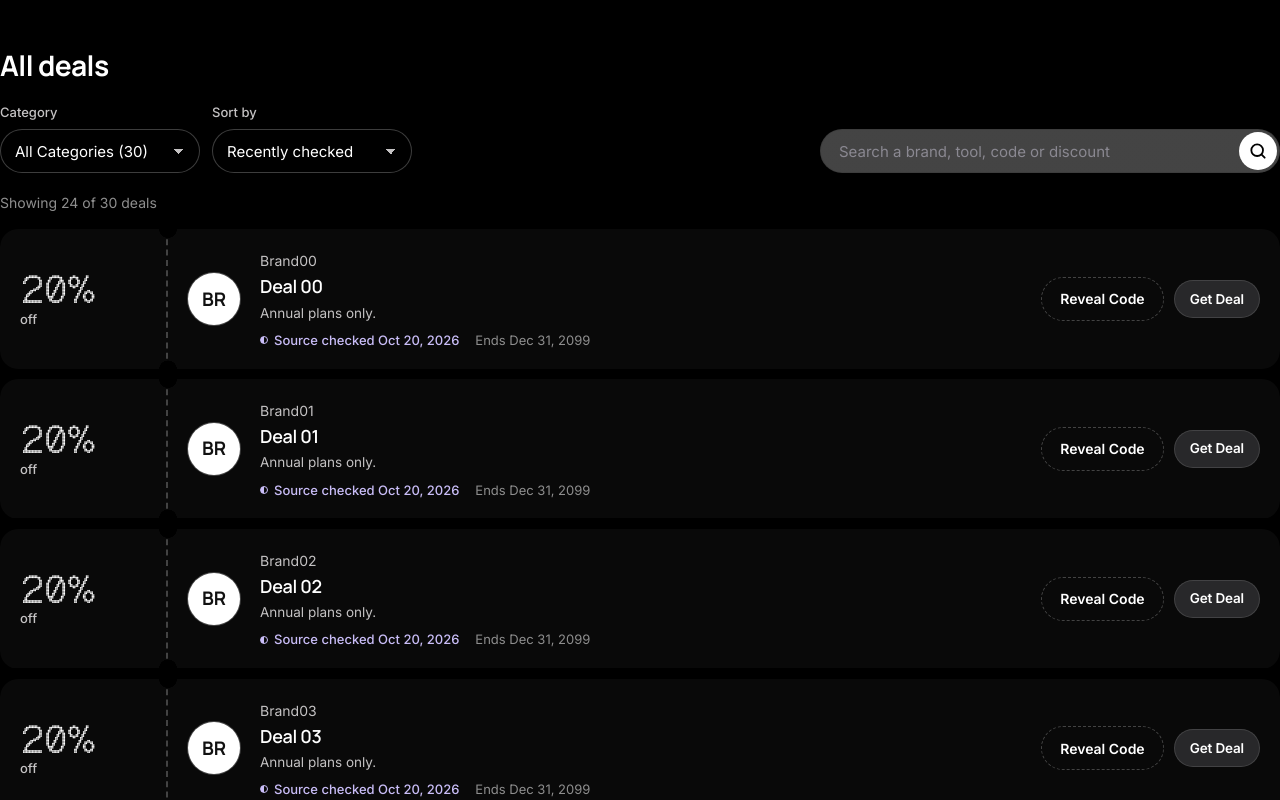
Test: Deals list › searches with the round search key
Type "code03" into the search field.
click(1035, 151); type("code03")  # box [839,132,1231,170]
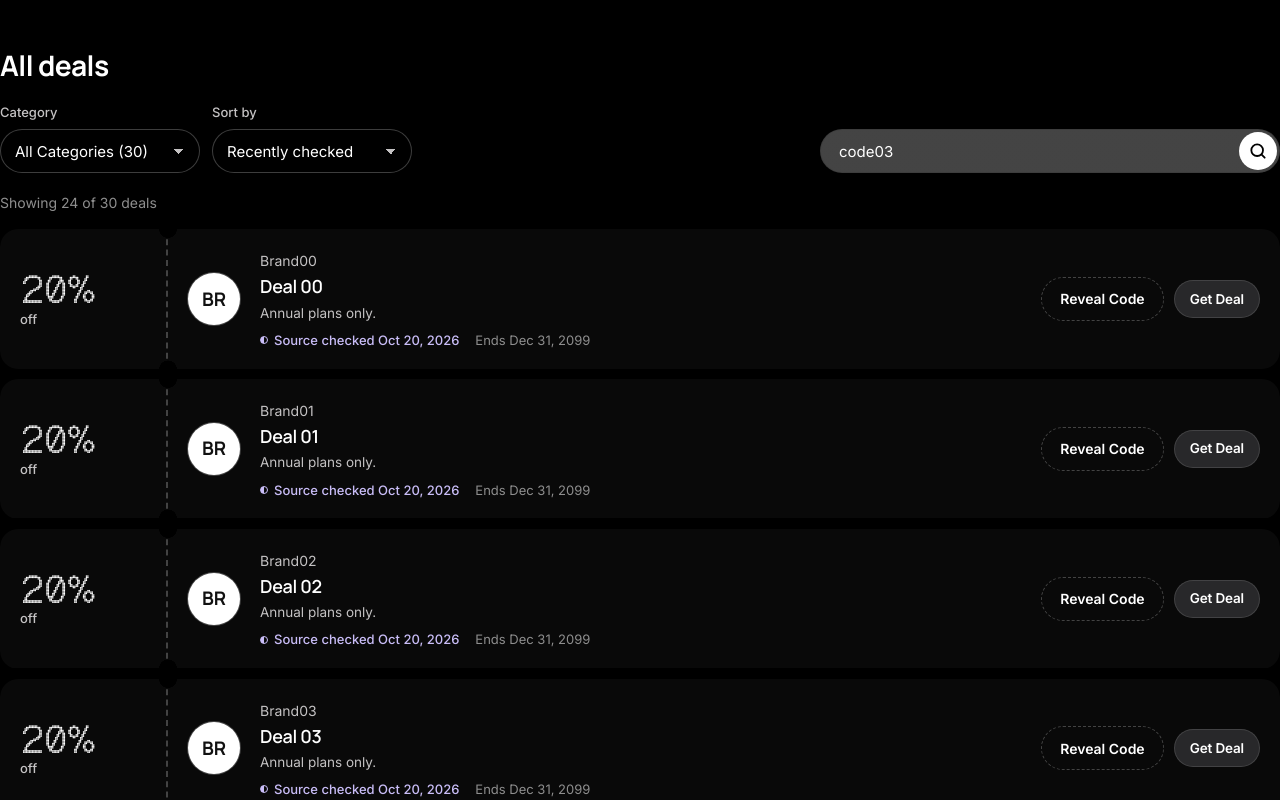
Click the button named "Search deals".
click(1258, 151)  # box [1239,132,1277,170]
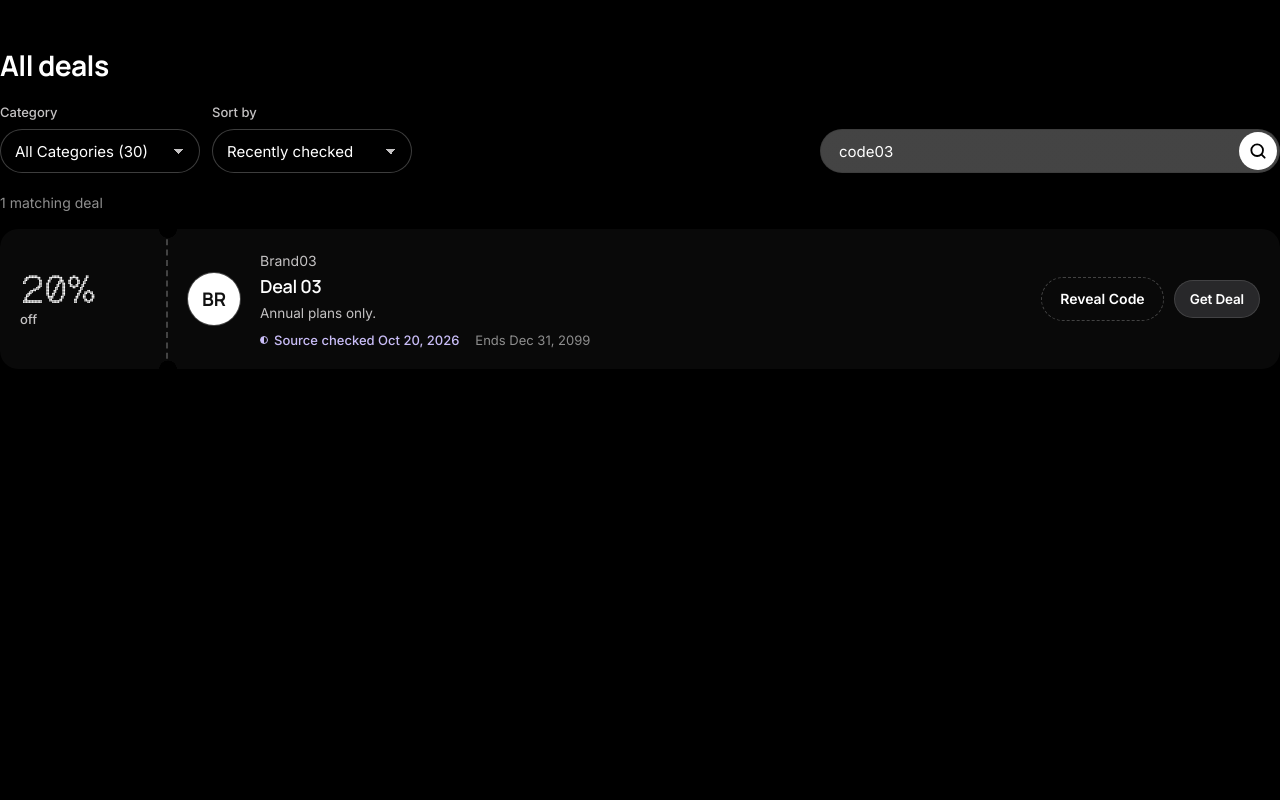
Result: the number of list items with class "deal-row" is 1 at [0,229,1279,369]
